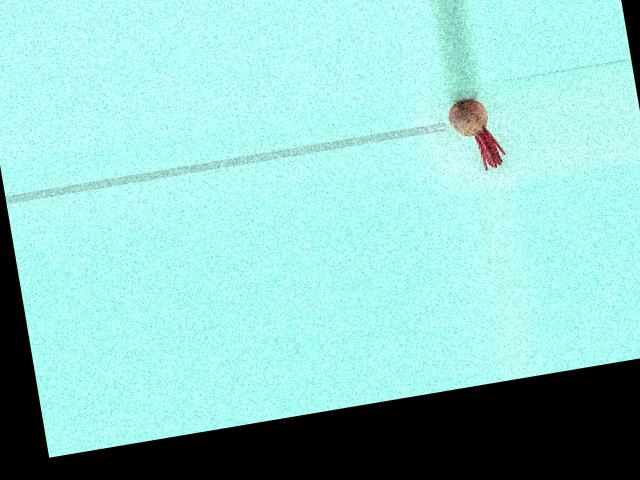beet: (445, 95, 506, 174)
